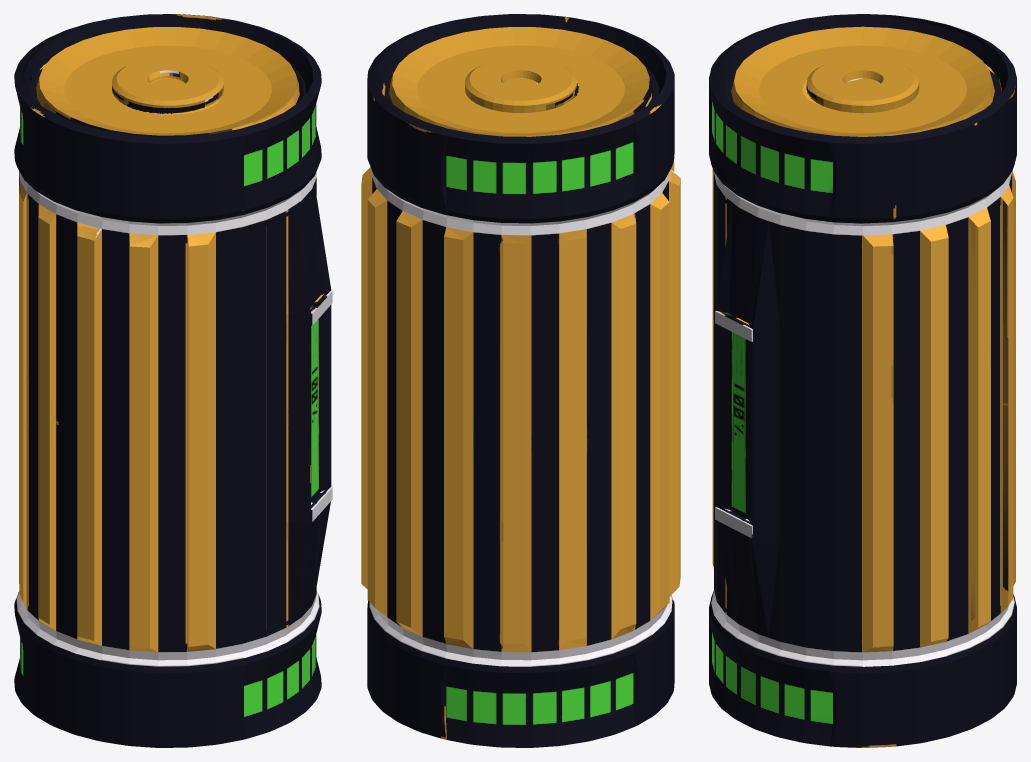
The model's file is pickup.obj.
3 renders of one model, left to right at view 1: azimuth 30°, elevation 25°; view 2: azimuth 150°, elevation 25°; view 3: azimuth 270°, elevation 25°, orthographic.
Visible parts, largest first — view 1: Cylinder; view 2: Cylinder; view 3: Cylinder.
Boxes of the visible parts, bbox=[...] form: Cylinder: bbox=[14, 14, 332, 747]; Cylinder: bbox=[361, 14, 680, 747]; Cylinder: bbox=[709, 14, 1016, 747].
Bounding box in the file's own units: 0.249 × 0.5399 × 0.2464.
